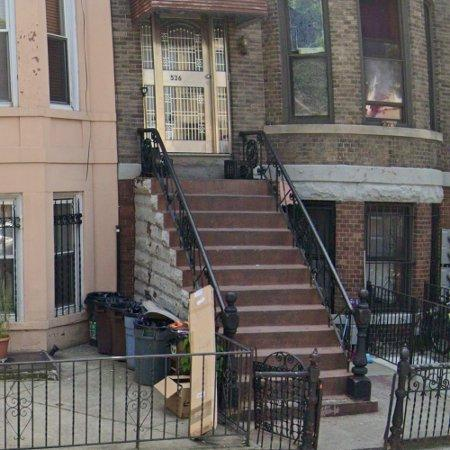stairs: (134, 129, 352, 415)
